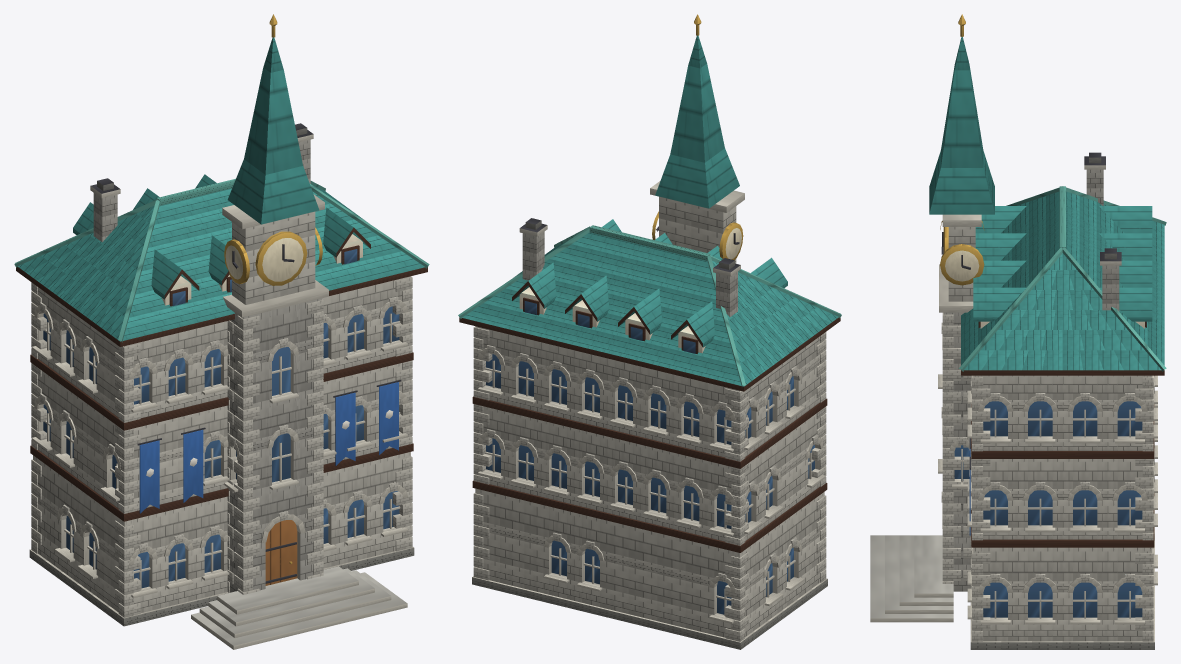
The model's file is civ_townhall_01.glb.
The picture shows the model from 3 angles, left to right: view 1: azimuth 30°, elevation 25°; view 2: azimuth 150°, elevation 25°; view 3: azimuth 270°, elevation 25°; orthographic projection. The views are drawn at different scales.
Parts seen in each view (by area): view 1: civ_townhall_01; view 2: civ_townhall_01; view 3: civ_townhall_01.
Boxes of the visible parts, x1=… form: civ_townhall_01: x1=14, y1=14, x2=429, y2=649; civ_townhall_01: x1=458, y1=14, x2=841, y2=649; civ_townhall_01: x1=870, y1=14, x2=1166, y2=649.
Bounding box in the file's own units: 14.33 × 25.5 × 12.1.
1 material, 1 textured.
